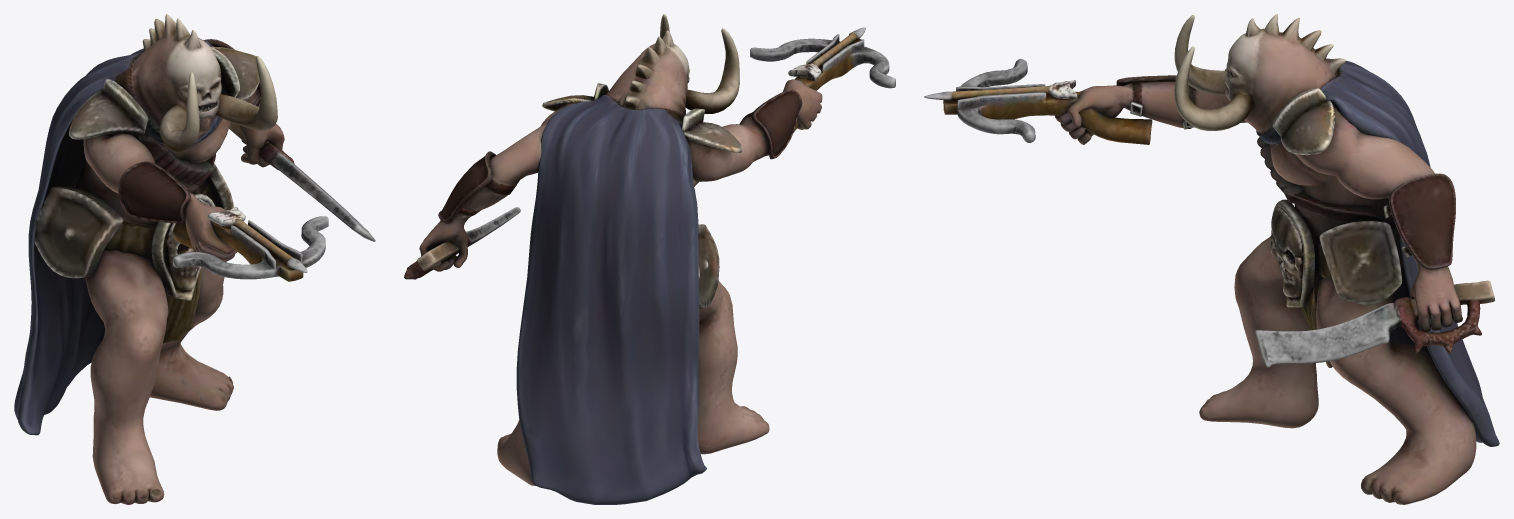
File: MZ4250 - Orthon.glb
3 renders of one model, left to right at view 1: azimuth 30°, elevation 25°; view 2: azimuth 150°, elevation 25°; view 3: azimuth 270°, elevation 25°, orthographic. The views are drawn at different scales.
Parts seen in each view (by area): view 1: Cube.001; view 2: Cube.001; view 3: Cube.001.
Part boxes in pixels (x1,y1,x2,y2): Cube.001: (14, 14, 375, 504); Cube.001: (404, 14, 895, 504); Cube.001: (924, 14, 1499, 504).
Size of the model in its own units: 106 by 139 by 165.
1 material, 1 textured.
